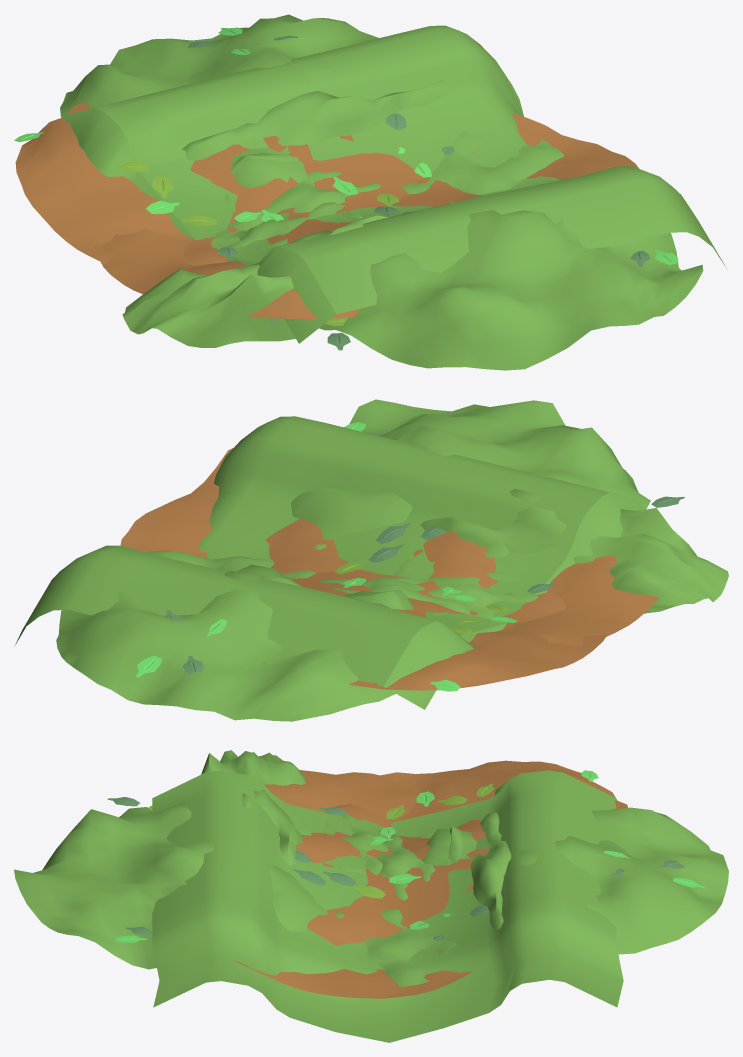
Rendered from Forest_track.fbx.
3 views of the same model, one above another, from view 1: azimuth 30°, elevation 25°; view 2: azimuth 150°, elevation 25°; view 3: azimuth 270°, elevation 25° (orthographic). The views are drawn at different scales.
Parts seen in each view (by area): view 1: Plane.058; view 2: Plane.058; view 3: Plane.058.
Part boxes in pixels (x1,y1,x2,y2): Plane.058: [14, 14, 726, 370]; Plane.058: [14, 399, 728, 721]; Plane.058: [14, 750, 728, 1042].
Bounding box in the file's own units: 633 × 144 × 826.
